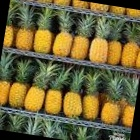Pineapple: (27, 58, 53, 114), (100, 70, 123, 125), (52, 9, 74, 58), (89, 18, 110, 65), (63, 68, 83, 117)
